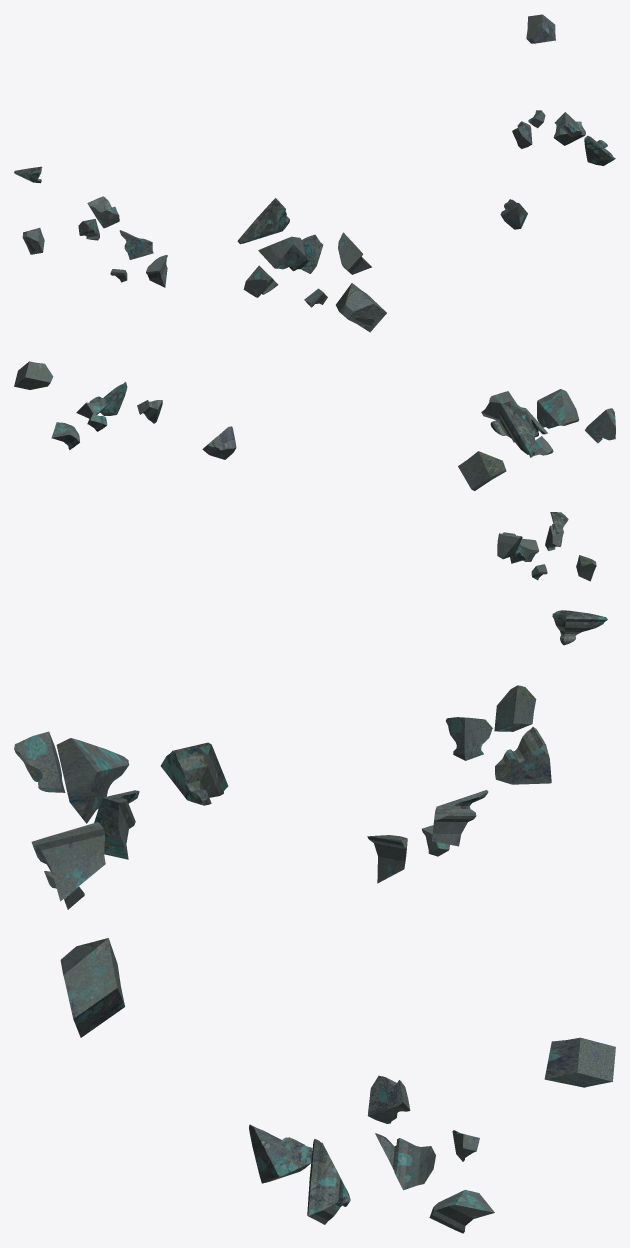
File: Tutorial_MapRocks.fbx
3 renders of one model, top to bottom at view 1: azimuth 30°, elevation 25°; view 2: azimuth 150°, elevation 25°; view 3: azimuth 270°, elevation 25°, orthographic. The views are drawn at different scales.
Visible parts, largest first — view 1: Tuto_Rocks; view 2: Tuto_Rocks; view 3: Tuto_Rocks.
Part boxes in pixels (left/top/right/bottom): Tuto_Rocks: left=14, top=14, right=615, bottom=332; Tuto_Rocks: left=14, top=361, right=615, bottom=581; Tuto_Rocks: left=14, top=610, right=615, bottom=1233.
Bounding box in the file's own units: 7654 × 1979 × 3810.
